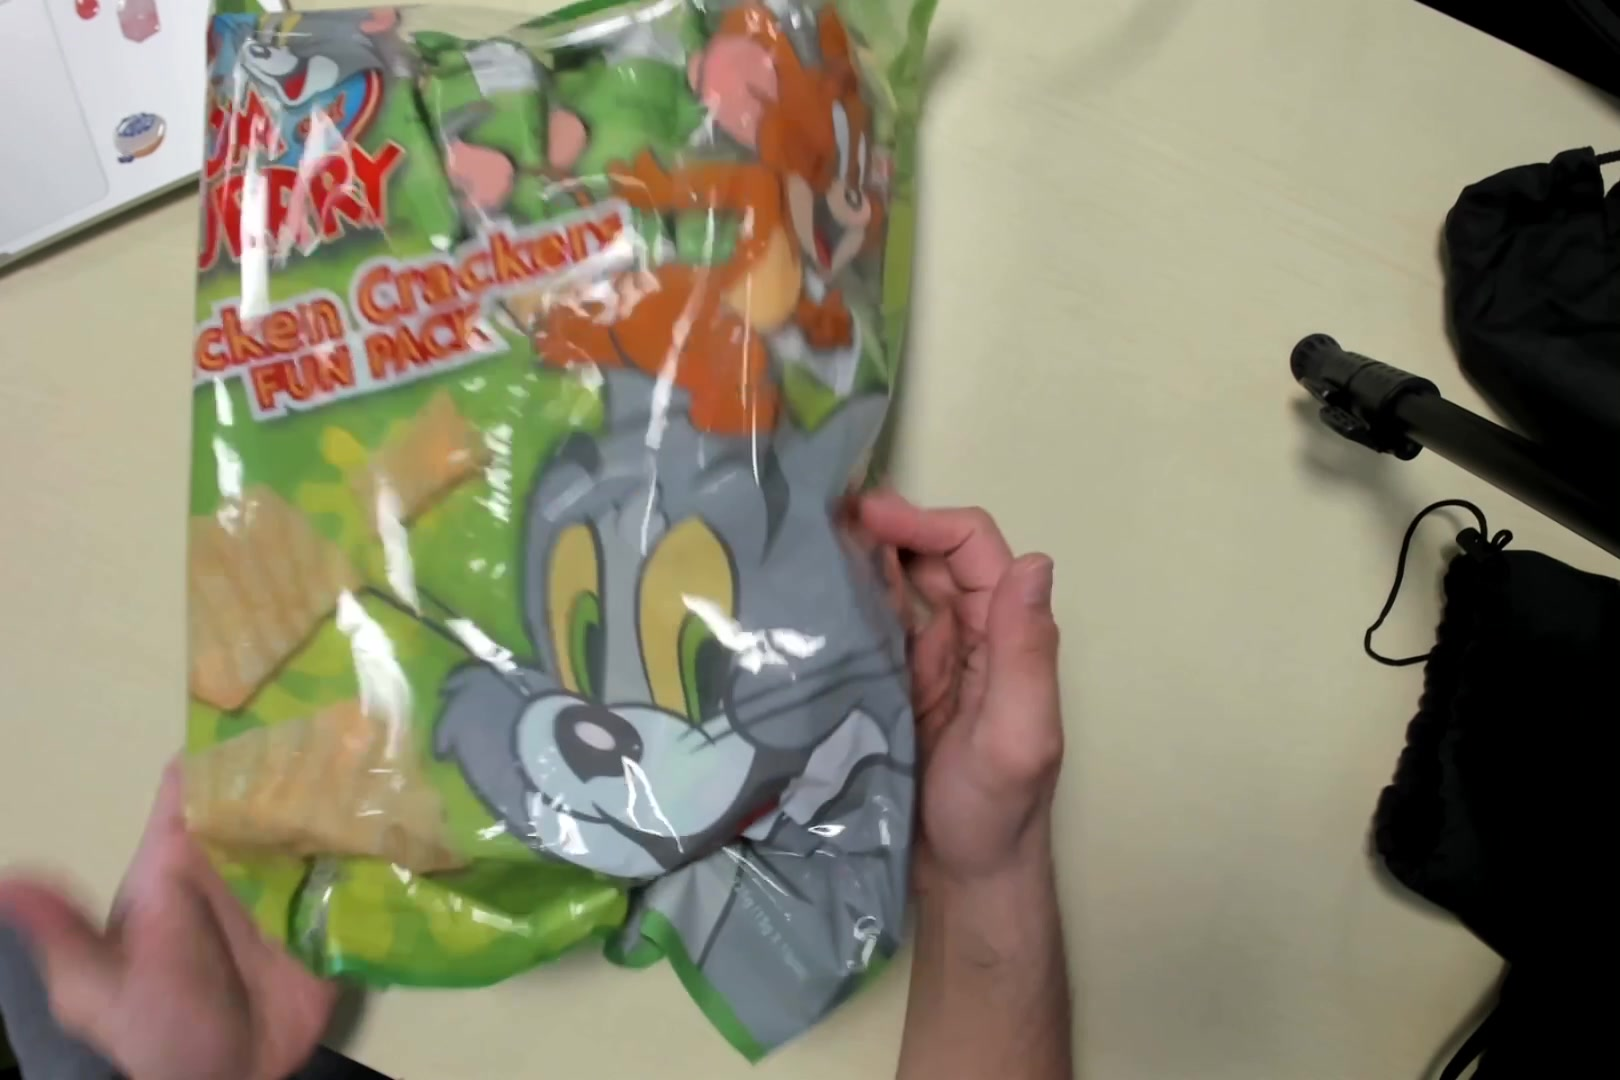PotatoChipsKeropok_200-299g_Halal_NonHealthy: (206, 13, 925, 1031)
